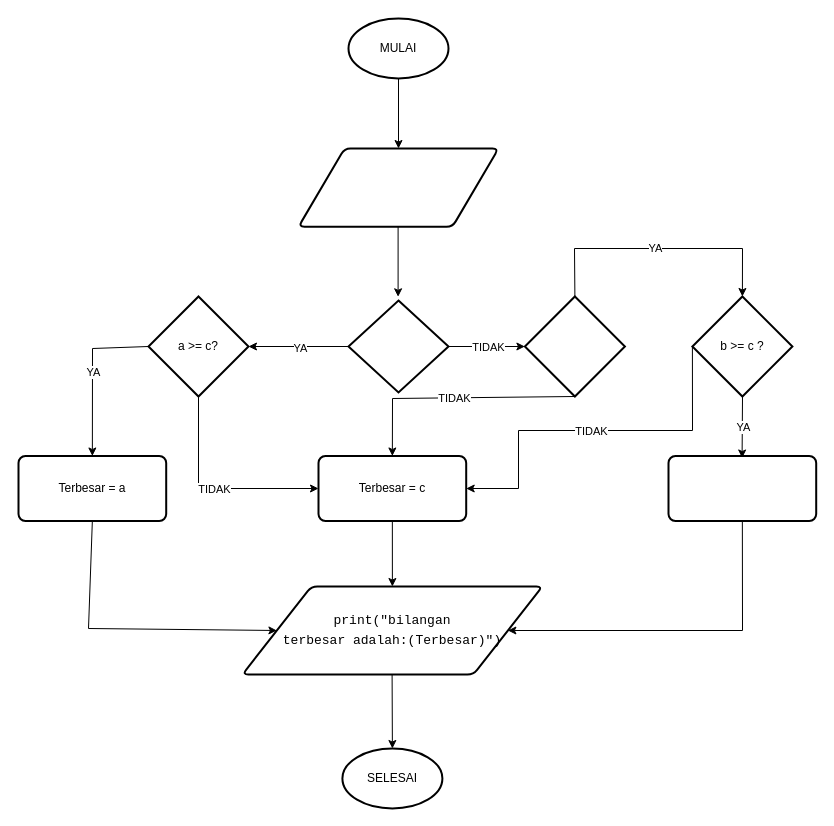
This 834x826 diagram has some shape labels left out. The shapes that lost their labels are listed below. From the top down, each one's centre as x and y in pixels, then its label:
point 398,187: input bilangan a input bilangan b input bilangan c
point 398,346: a >= b?
point 574,346: a <= b ?
point 742,488: Terbesar = b
